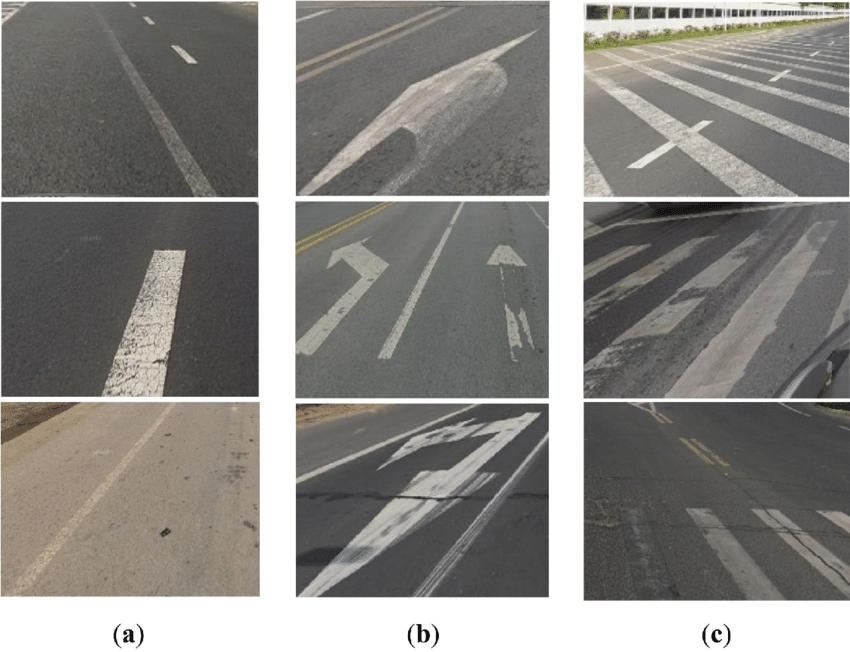faded_road_lines: (586, 204, 848, 397), (585, 5, 849, 196), (299, 402, 551, 601), (296, 202, 547, 398), (301, 20, 544, 198), (8, 405, 171, 595), (81, 0, 225, 200), (83, 226, 222, 399), (294, 4, 465, 90), (683, 498, 792, 602), (751, 500, 850, 602), (608, 497, 682, 602), (665, 429, 752, 485), (768, 404, 850, 448), (612, 398, 684, 428), (814, 502, 850, 543)
